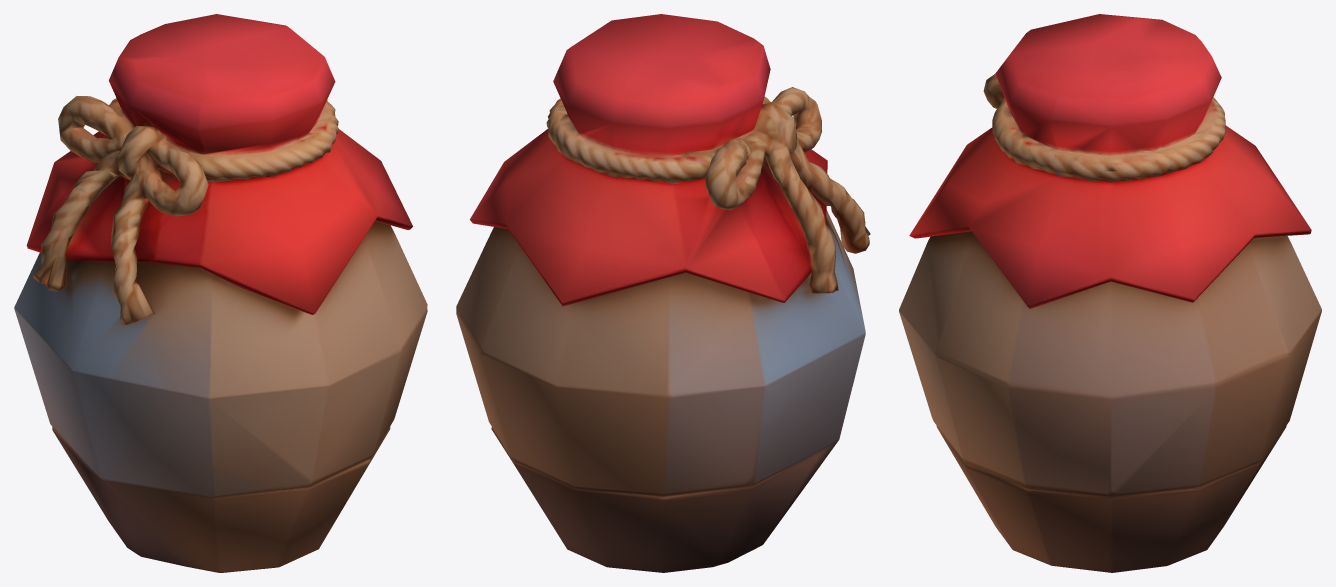
File: jar.glb
3 renders of one model, left to right at view 1: azimuth 30°, elevation 25°; view 2: azimuth 150°, elevation 25°; view 3: azimuth 270°, elevation 25°, orthographic.
Parts seen in each view (by area): view 1: material; view 2: material; view 3: material.
Boxes of the visible parts, bbox=[...] form: material: bbox=[14, 14, 427, 572]; material: bbox=[456, 14, 870, 572]; material: bbox=[899, 14, 1321, 572].
Bounding box in the file's own units: 1.5 × 1.9 × 1.53.
1 material, 1 textured.
